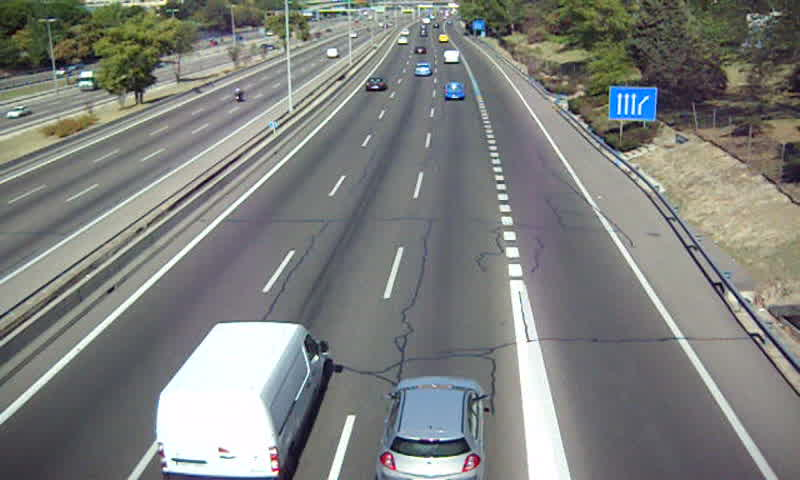car: (377, 376, 485, 480), (444, 82, 467, 101), (365, 77, 388, 92), (414, 62, 432, 77)
van: (156, 321, 326, 480), (442, 50, 460, 65)
